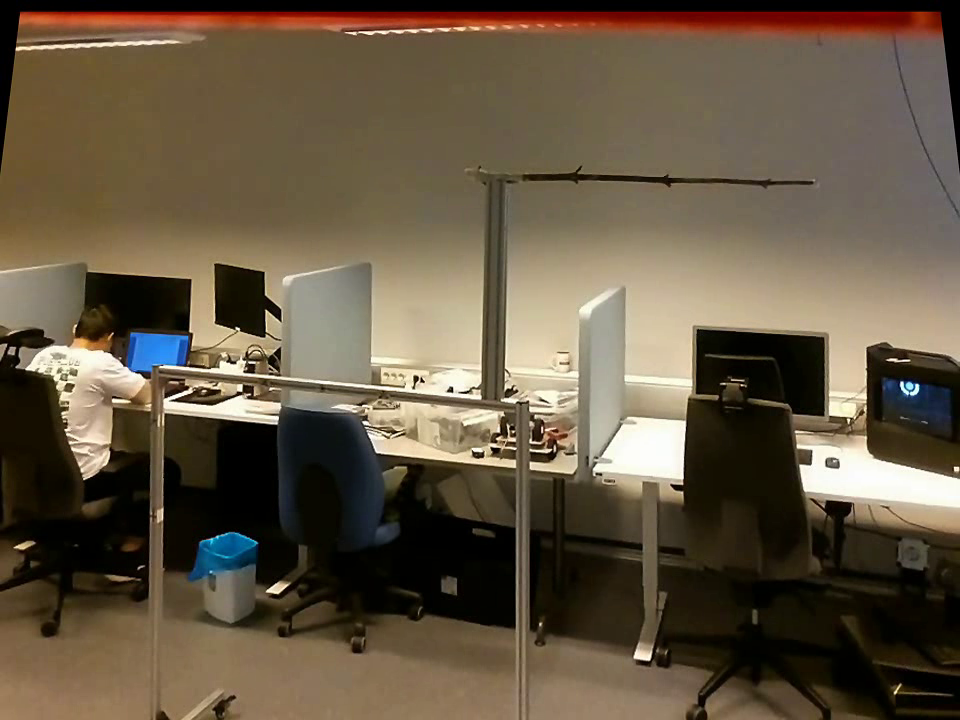aluminum_frame: (160, 360, 514, 415), (142, 356, 166, 716), (508, 397, 533, 718), (476, 184, 510, 395), (161, 683, 231, 717)
branch: (527, 157, 805, 197), (475, 181, 513, 398)
